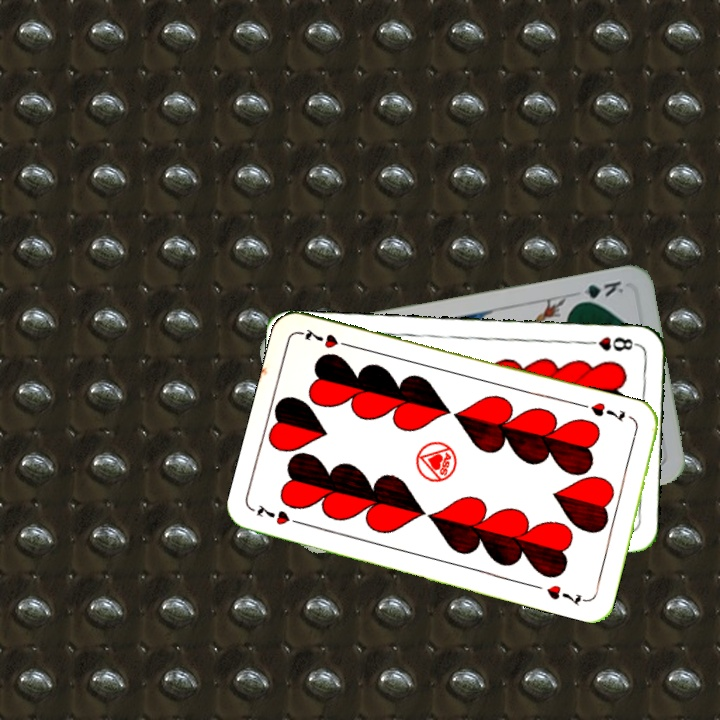GK: (569, 276, 626, 307)
H7: (252, 500, 308, 528), (586, 398, 628, 424)
H8: (581, 332, 640, 354)
